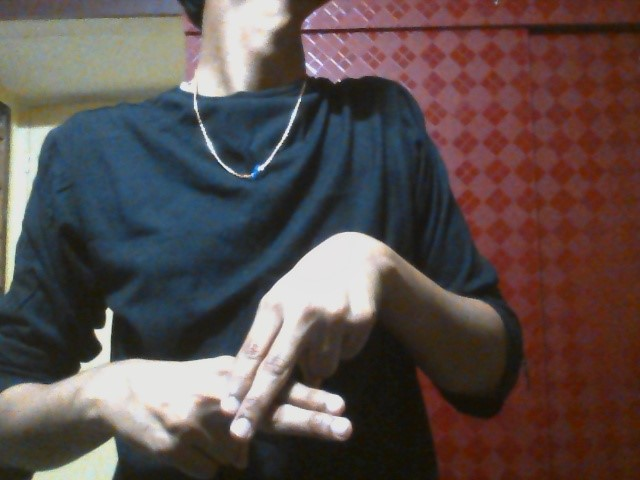F: (122, 248, 384, 477)
